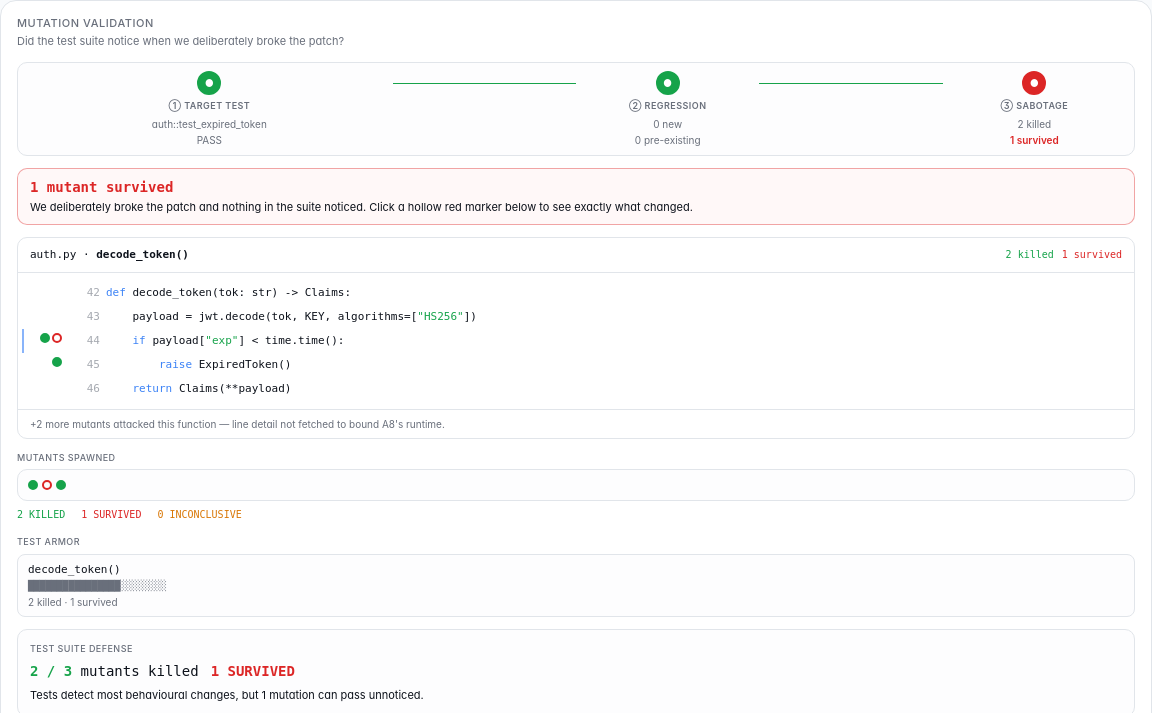
Test: MutationValidationPanel › clicking a population-strip dot expands the same mutant as its gutter dot
Check: the text "Mutants spawned" is shown, box [17, 452, 116, 463]
Click the button titled "no test detected this mutation" below "Mutants spawned".
click(47, 485)  # box [42, 480, 52, 490]
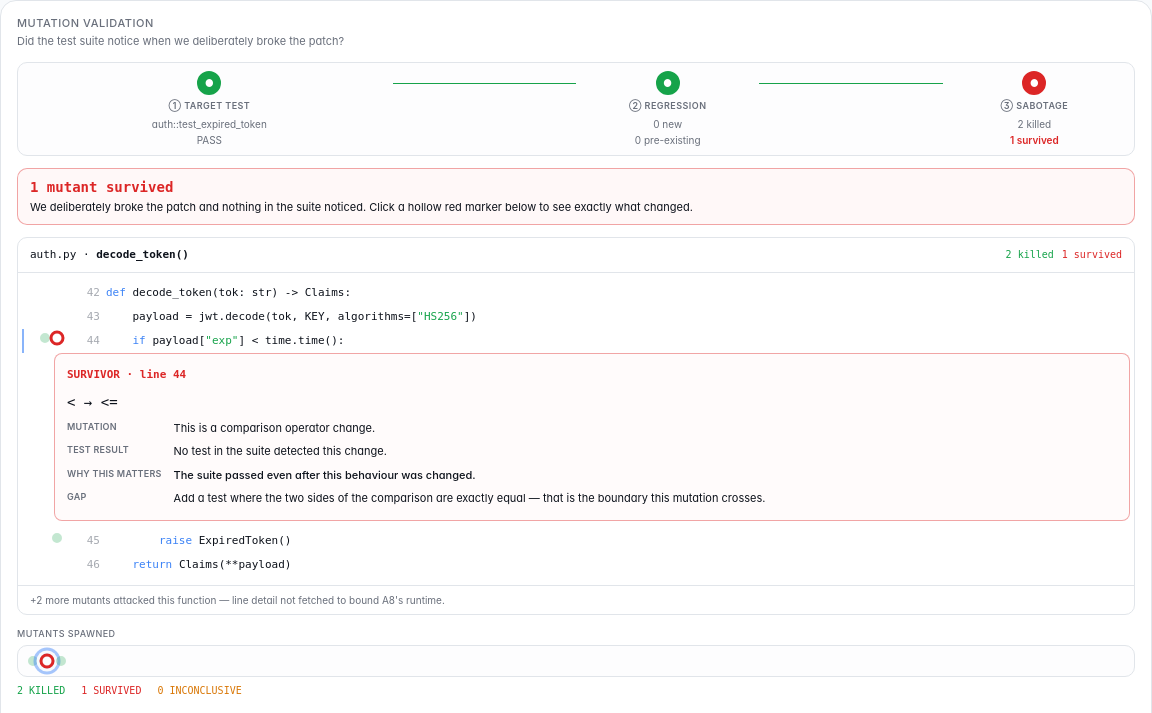
Check: the text "< → <=" is shown, box [67, 394, 118, 410]
